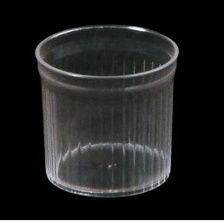glass: (30, 17, 187, 204)
